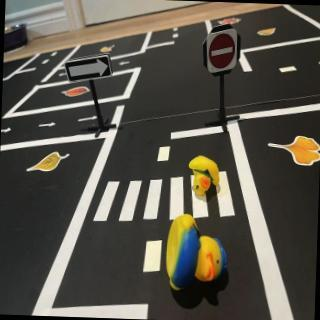duck_regular: (188, 154, 222, 197)
duck_specialty: (164, 212, 232, 295)
road_crosswalk: (90, 164, 240, 229)
road_oneway: (78, 113, 101, 126), (38, 121, 59, 132), (2, 126, 14, 137), (58, 70, 69, 80), (120, 60, 132, 67)
sign_noentry: (207, 27, 239, 74)
sign_oneway_right: (65, 53, 114, 84)
